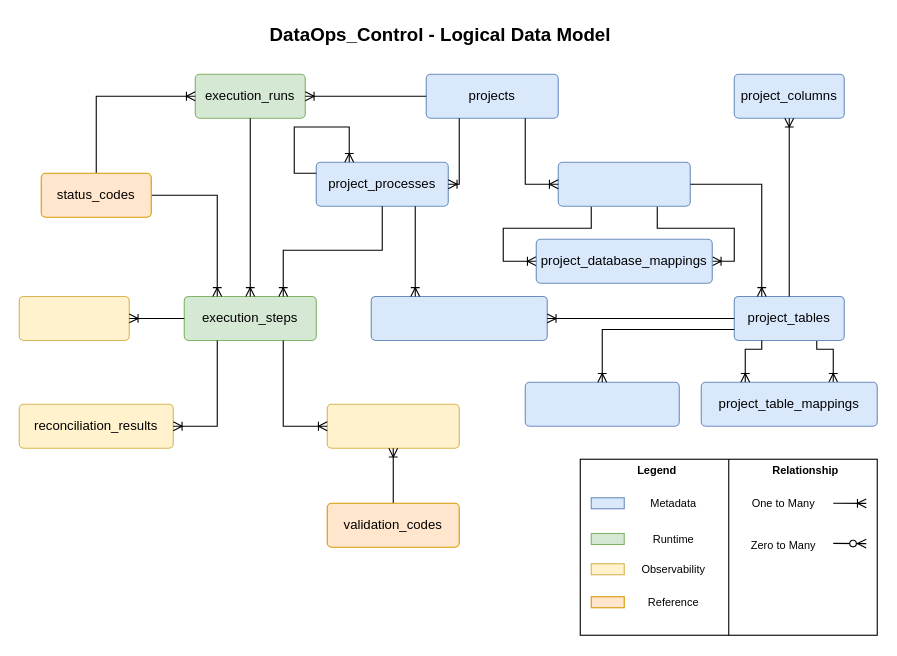
The diagram is 897 pixels wide and 656 high, and some of its shapes have lost their labels. Each missing label, with the centre of its shape:
"error_logs" goes at point 73,317.
"project_databases" goes at point 623,183.
"project_process_tables" goes at point 458,317.
"project_table_batches" goes at point 601,403.
"validation_results" goes at point 392,425.
